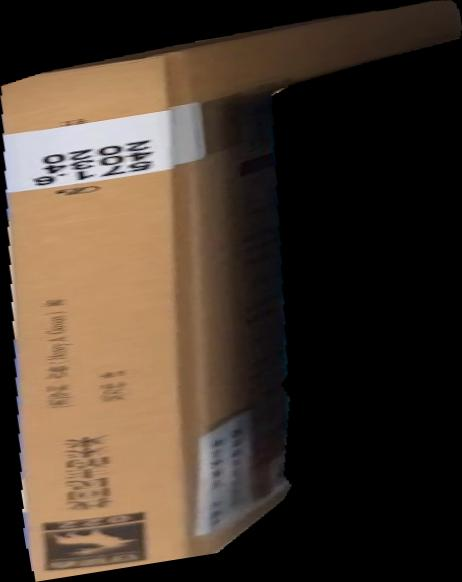reverse: (1, 1, 462, 582)
